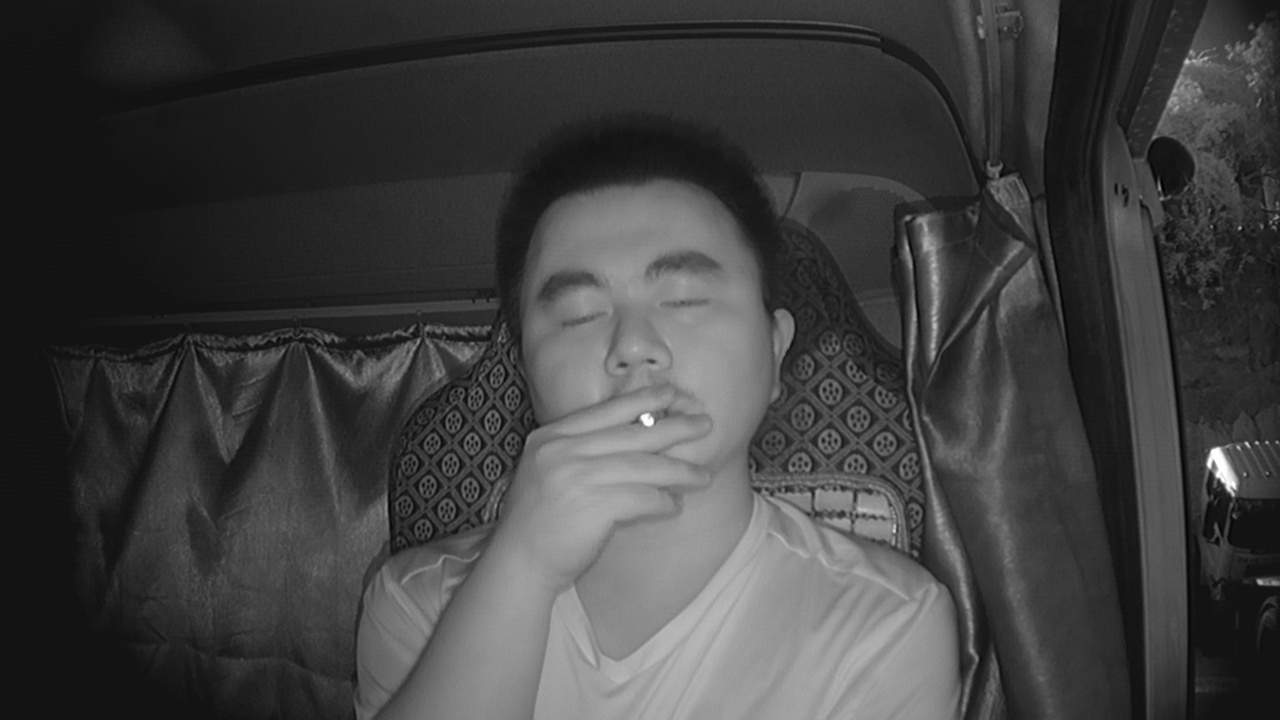hand: (564, 379, 709, 529)
